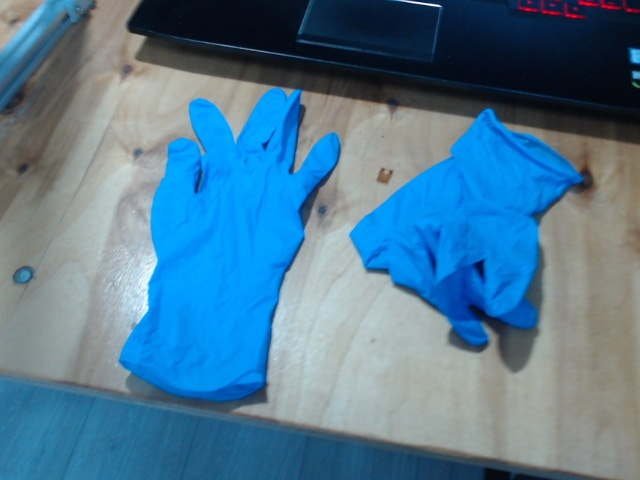medical_glove: (120, 87, 341, 400), (349, 108, 584, 351)
